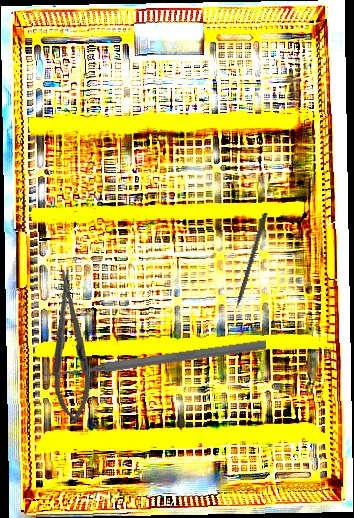Needle Holder: (47, 269, 94, 424)
Pusher: (42, 337, 267, 383), (229, 212, 268, 322)
